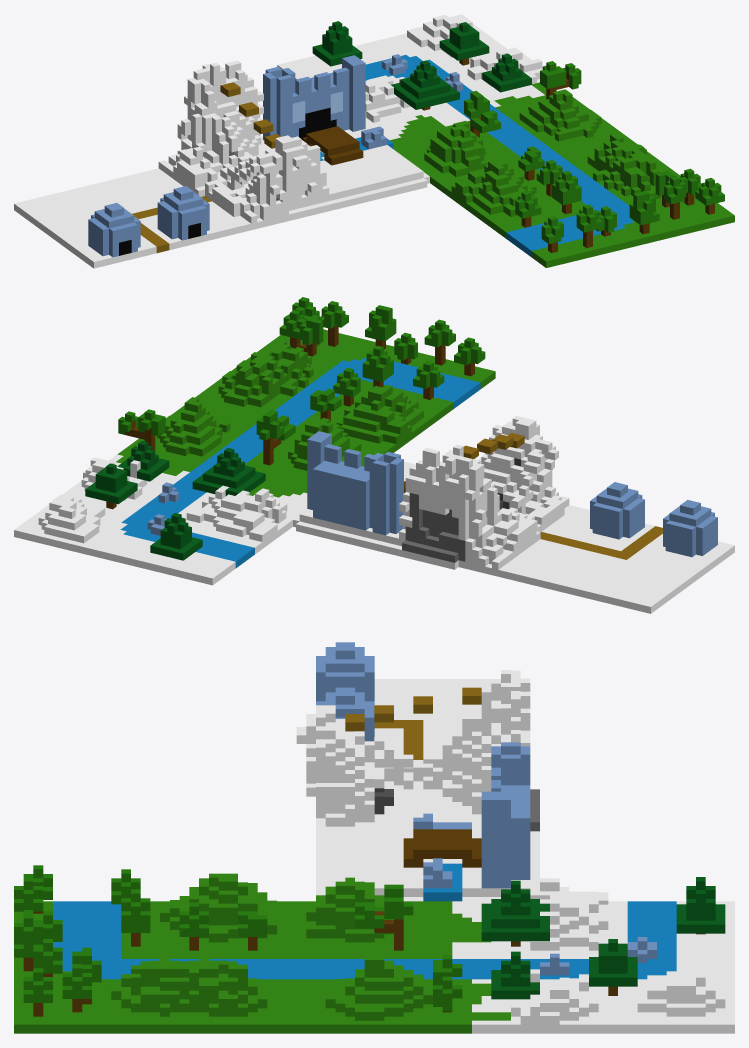
The model's file is World ice part 5.gltf.
The picture shows the model from 3 angles, top to bottom: view 1: azimuth 30°, elevation 25°; view 2: azimuth 150°, elevation 25°; view 3: azimuth 270°, elevation 25°; orthographic projection. The views are drawn at different scales.
Visible parts, largest first — view 1: Layer.5, Layer.2, Layer.1, Layer.4, Layer.3; view 2: Layer.2, Layer.5, Layer.1, Layer.3, Layer.4; view 3: Layer.5, Layer.1, Layer.4, Layer.3, Layer.2.
Boxes of the visible parts, left/top/right/bottom form: Layer.5: left=441, top=133, right=734, bottom=267; Layer.2: left=14, top=69, right=279, bottom=268; Layer.1: left=200, top=55, right=429, bottom=223; Layer.4: left=365, top=53, right=629, bottom=190; Layer.3: left=277, top=14, right=542, bottom=124; Layer.2: left=458, top=439, right=734, bottom=613; Layer.5: left=195, top=297, right=495, bottom=453; Layer.1: left=293, top=416, right=542, bottom=569; Layer.3: left=14, top=457, right=299, bottom=585; Layer.4: left=109, top=397, right=384, bottom=523; Layer.5: left=14, top=865, right=296, bottom=1033; Layer.1: left=296, top=670, right=539, bottom=901; Layer.4: left=296, top=877, right=598, bottom=1033; Layer.3: left=511, top=877, right=734, bottom=1033; Layer.2: left=316, top=642, right=520, bottom=789.
Bounding box in the file's own units: 85 × 16 × 74.
Materials: 1 (1 with a texture image).
